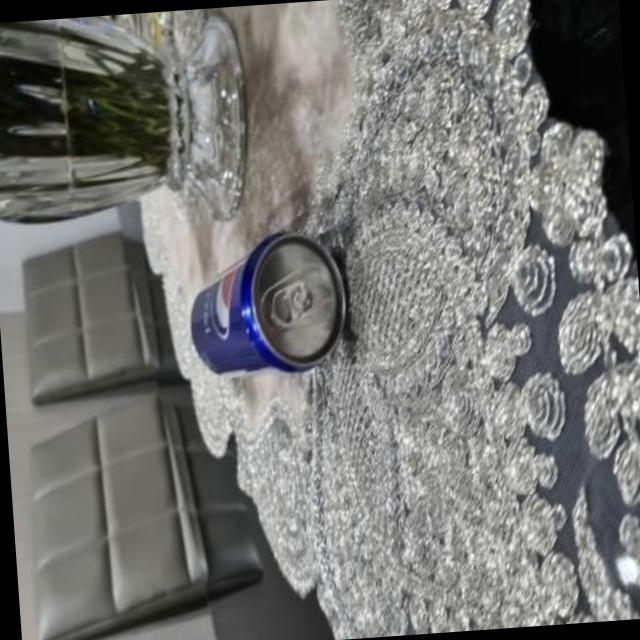metal: (189, 235, 342, 375)
